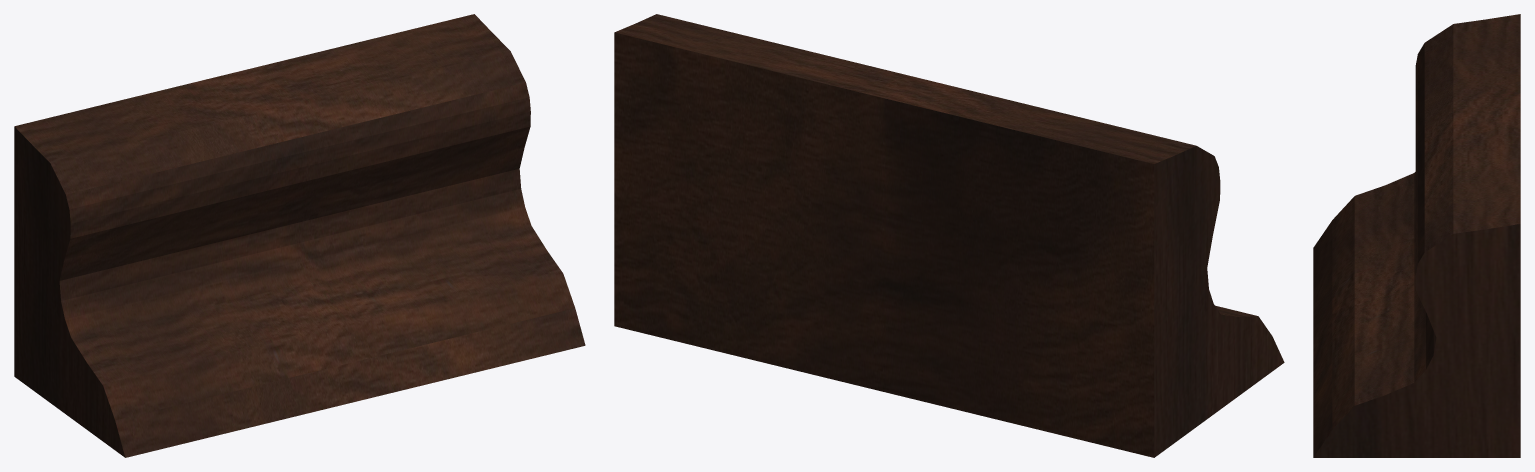
Rendered from plinth.fbx.
The picture shows the model from 3 angles, left to right: view 1: azimuth 30°, elevation 25°; view 2: azimuth 150°, elevation 25°; view 3: azimuth 270°, elevation 25°; orthographic projection. The views are drawn at different scales.
Parts seen in each view (by area): view 1: Cube; view 2: Cube; view 3: Cube.
Boxes of the visible parts, x1,y1,x2,y2 form: Cube: (14, 14, 585, 457); Cube: (614, 14, 1284, 457); Cube: (1313, 14, 1520, 457).
Size of the model in its own units: 25 by 13 by 10.45.
